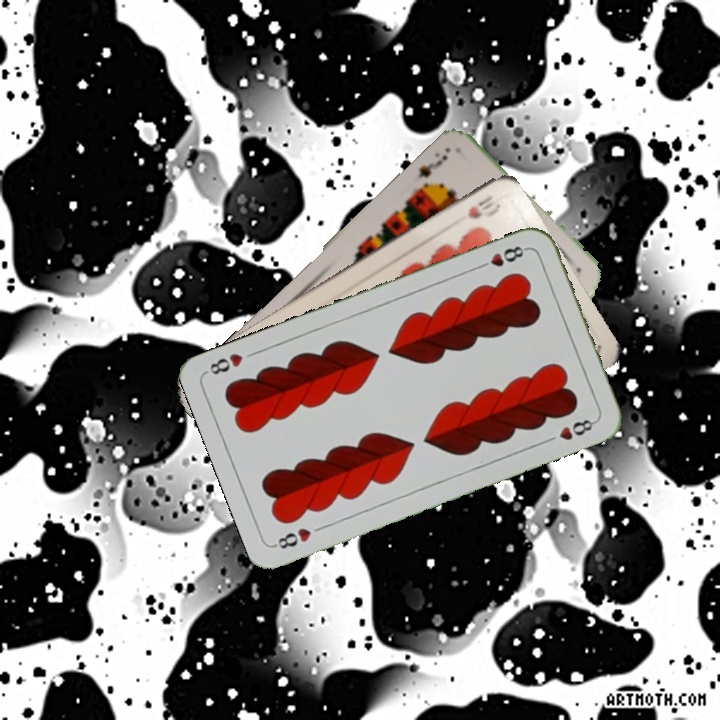H10: (463, 191, 503, 222)
H8: (473, 241, 530, 272), (270, 523, 314, 552)
S9: (414, 150, 450, 181)
